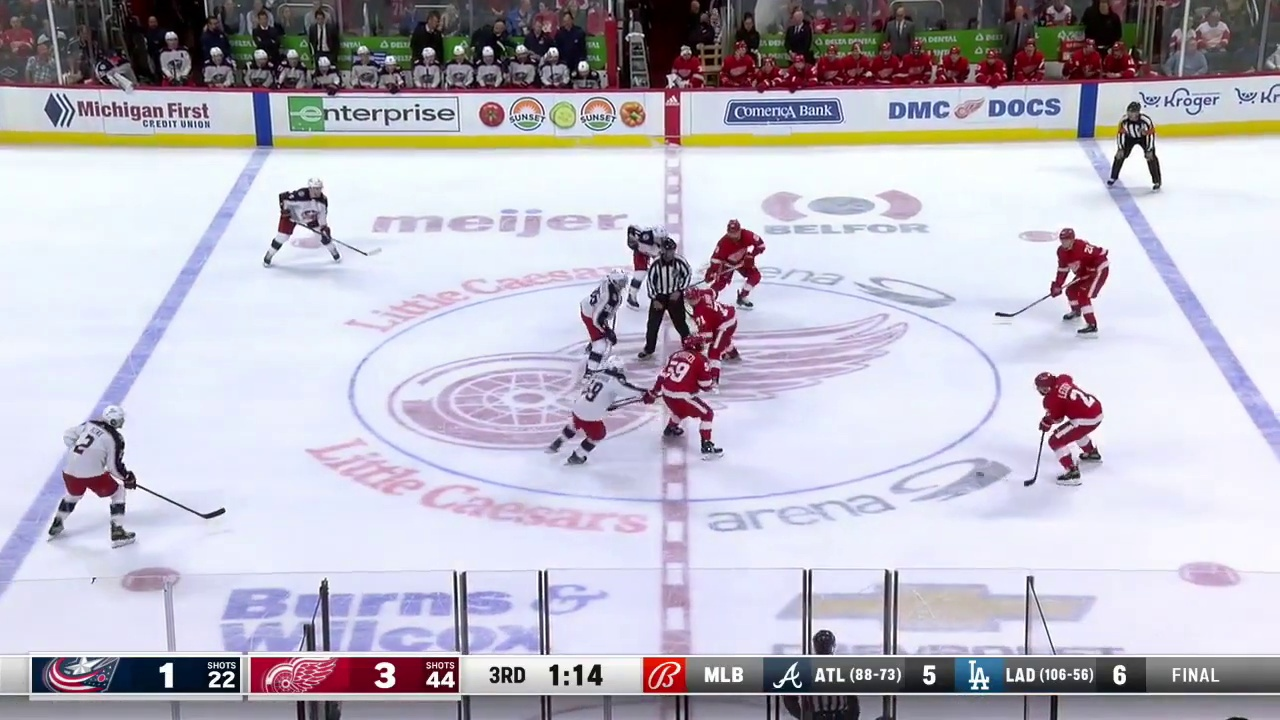hockeyplayer: (46, 405, 137, 549), (544, 354, 651, 466), (645, 333, 723, 461), (1034, 372, 1103, 487), (263, 177, 341, 266), (1050, 228, 1110, 339), (684, 286, 741, 396), (578, 267, 628, 384), (704, 219, 766, 310), (626, 223, 669, 312)
referee: (638, 238, 692, 360), (1106, 101, 1161, 192)
